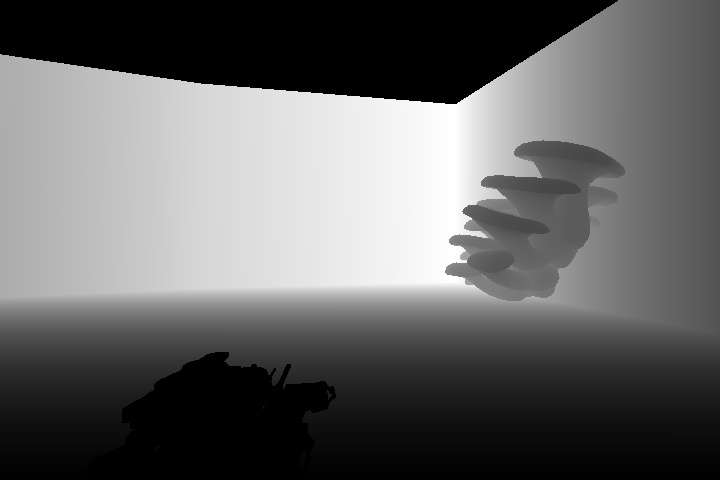glacier: (443, 138, 630, 304)
